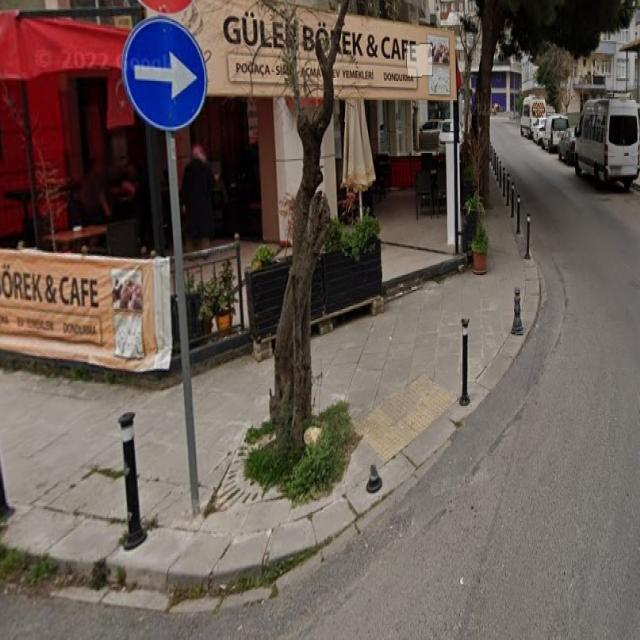Turn Right: (120, 11, 215, 141)
